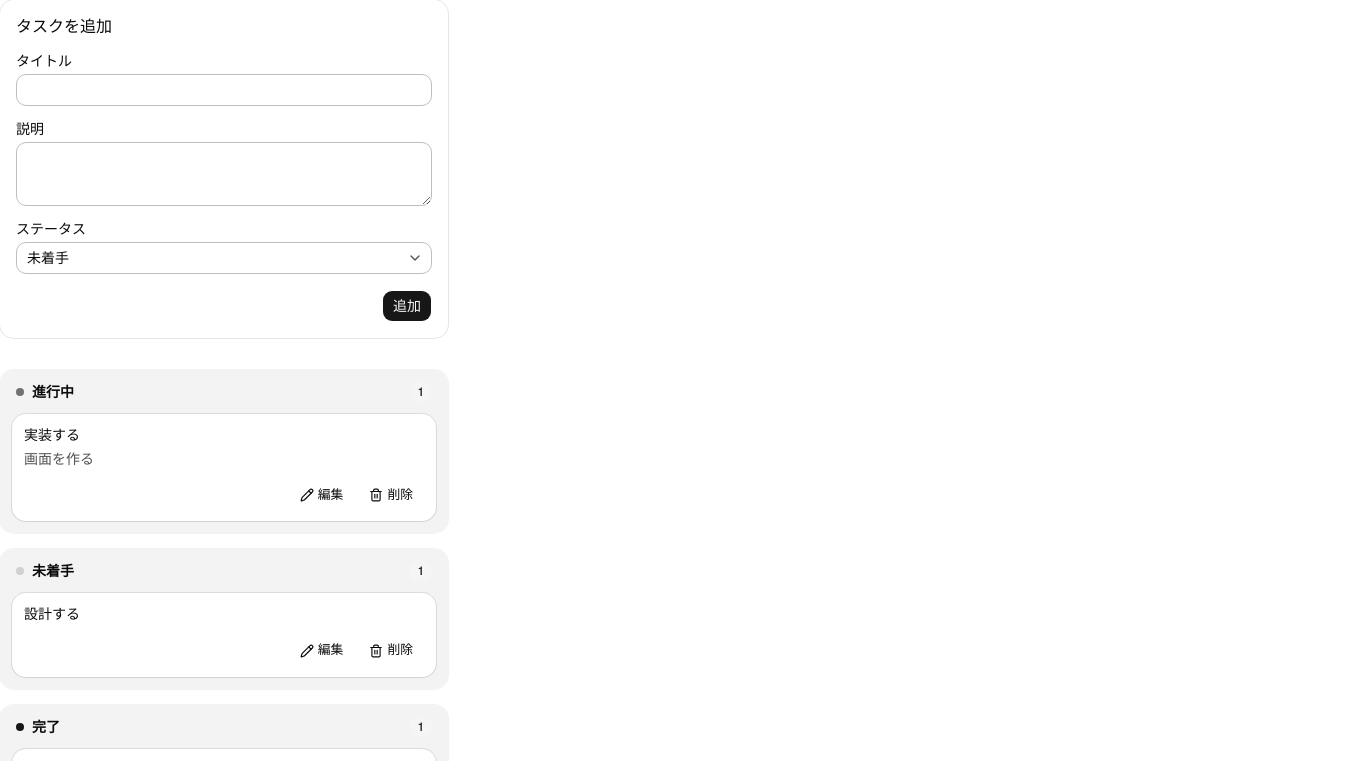
it: 削除 › 確認ダイアログで削除を実行すると、すぐ一覧から消える
What coordinates should you click on to do the following:
click the button with aria-label "設計するを削除"
I would click on:
 (391, 650)
Its box is [358,636,424,664].
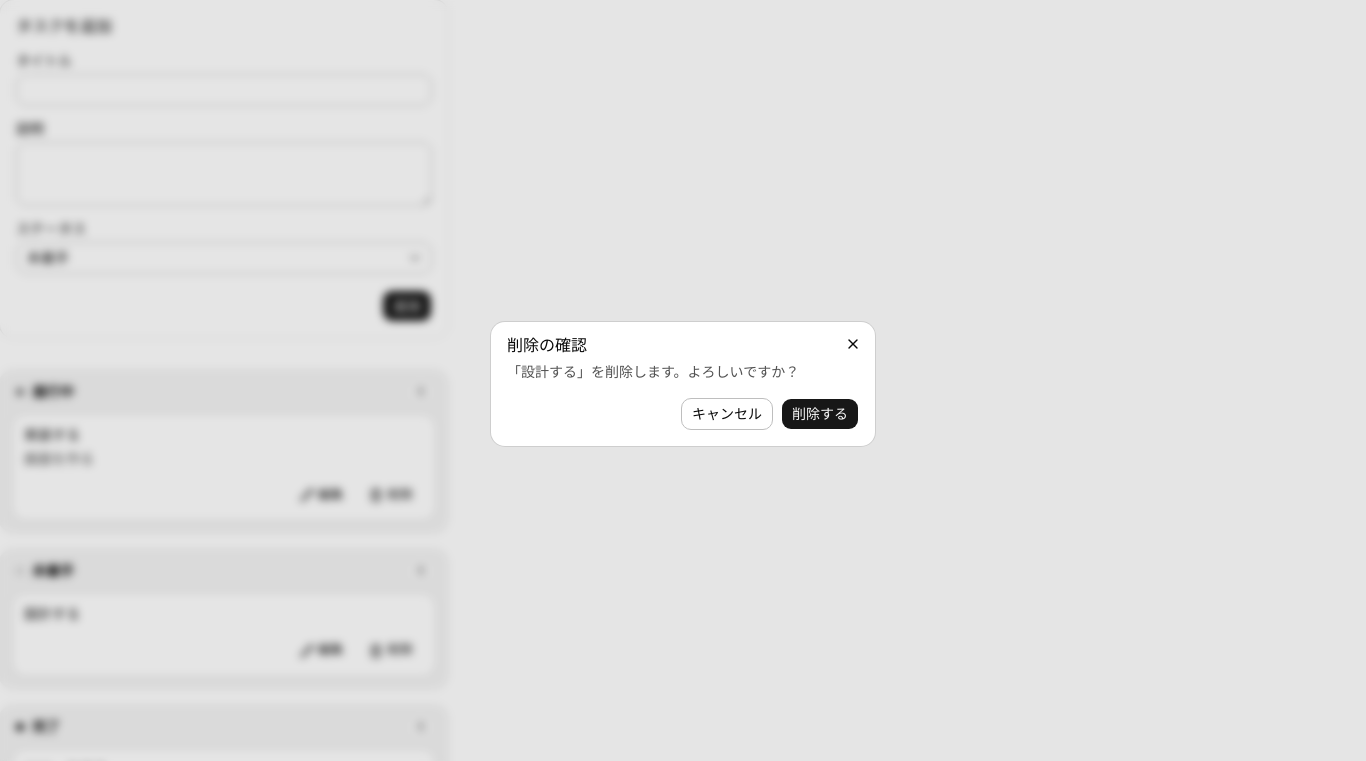
What coordinates should you click on to do the following:
click the button "削除する"
I would click on:
 (820, 414)
Its box is [781,398,859,430].
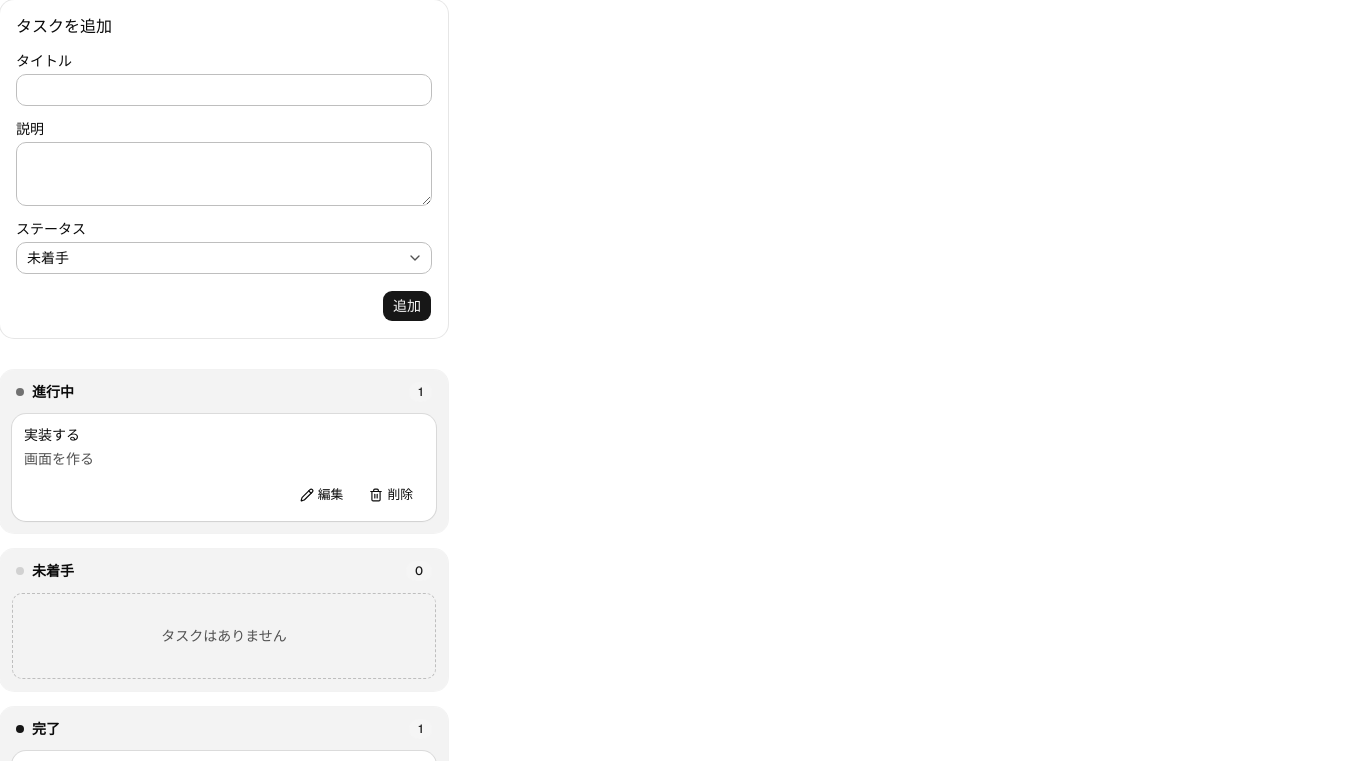
Result: the heading "設計する" is gone
Result: the dialog is gone
